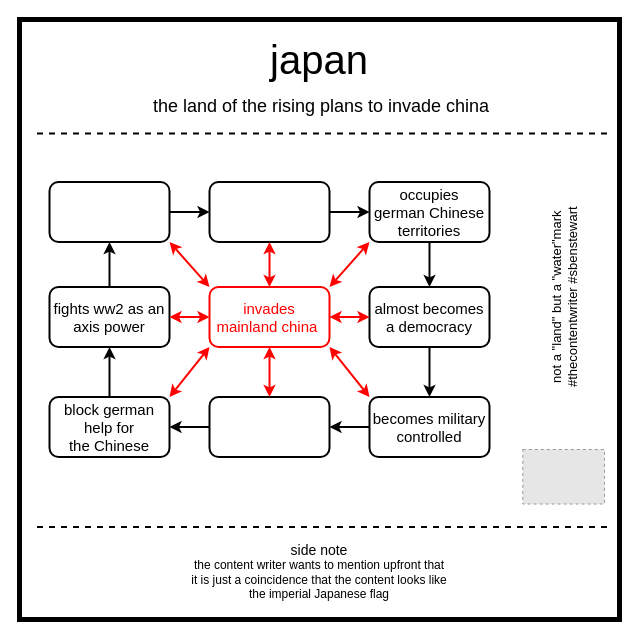
The diagram is 639 pixels wide and 639 high, and some of its shapes have lost their labels. Grey dashed boxes stand in for pictures. The centre of each missing label's shape, as x and y in pixels:
fights ww1 as an ally: pixel 269 211
forms a proxy M anchukuo in china: pixel 269 427
tries to act like a democracy: pixel 109 211
